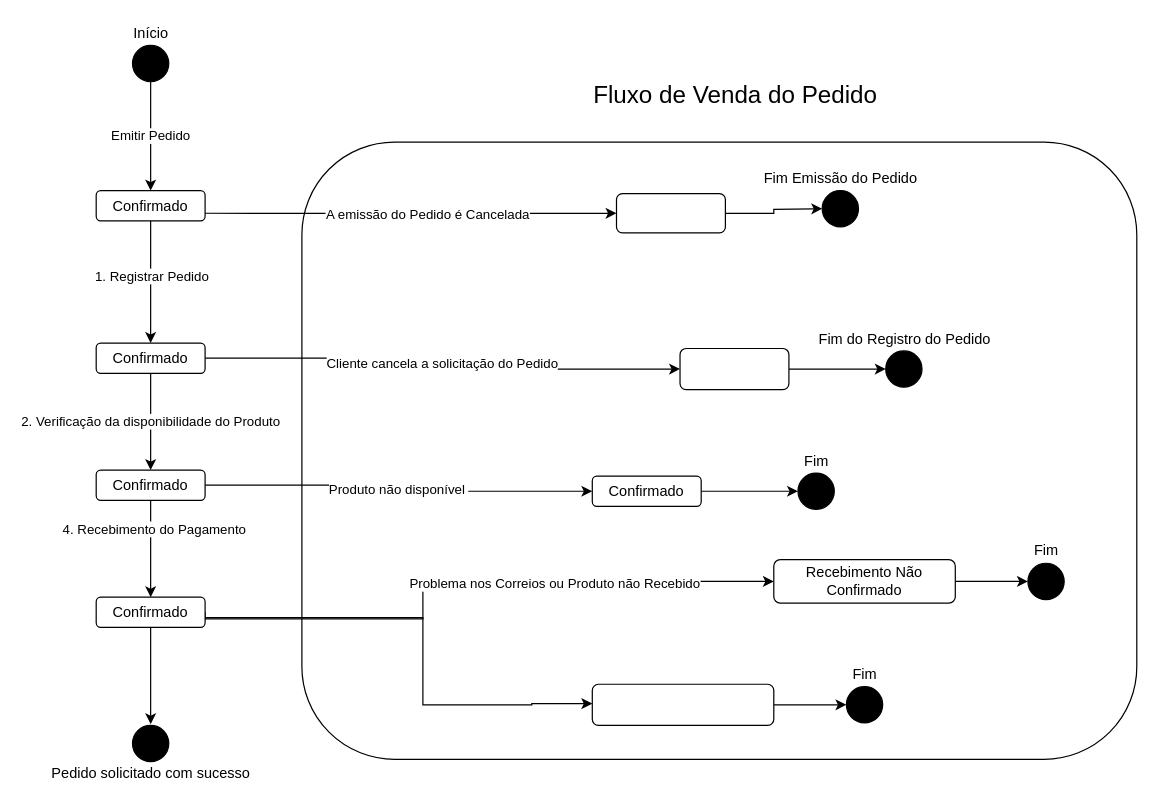
Image size: 1158x806. Some labels were removed from this diagram. Here are the shapes that lost their labels. From the top down, the centre of each, then its label:
the point at 670,212: Emissão Cancelada
the point at 734,368: Solicitação Cancelada
the point at 682,704: Solicitação Cancelada pela Origem
